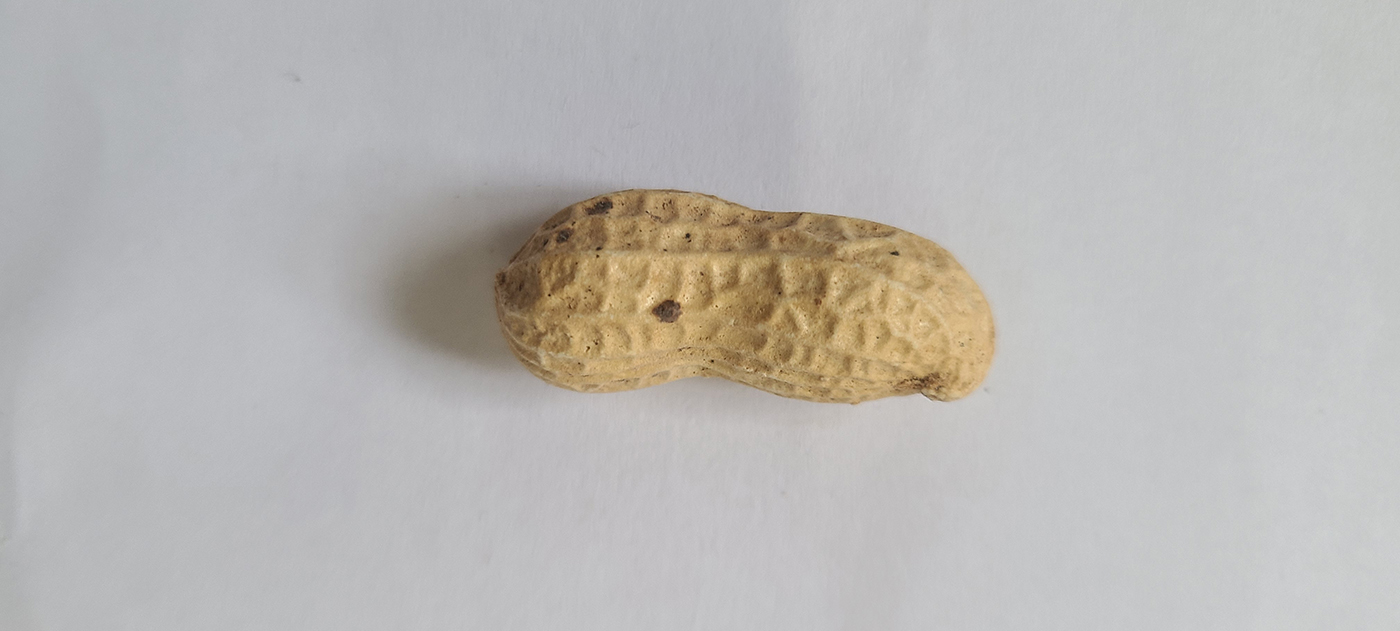h: (492, 185, 1000, 405)
